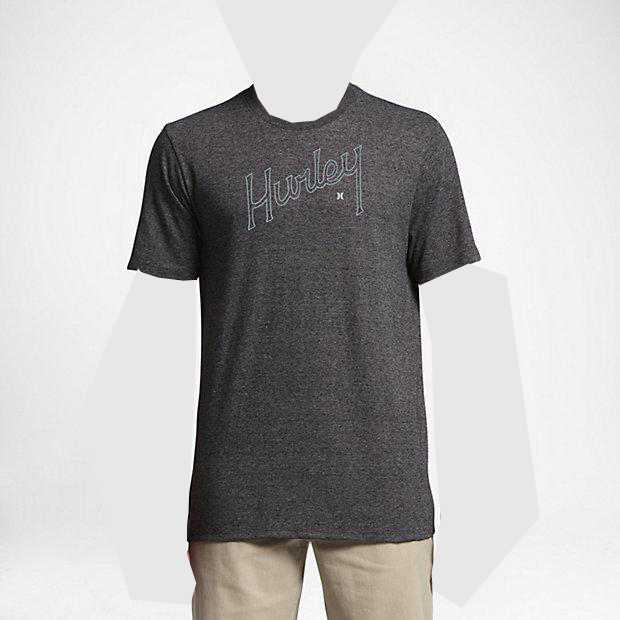teeshirt: (126, 79, 484, 547)
